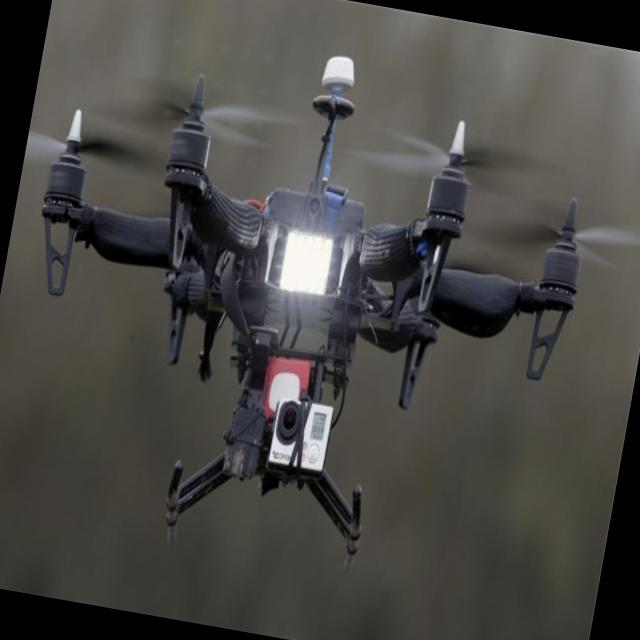drone: (0, 4, 612, 609)
